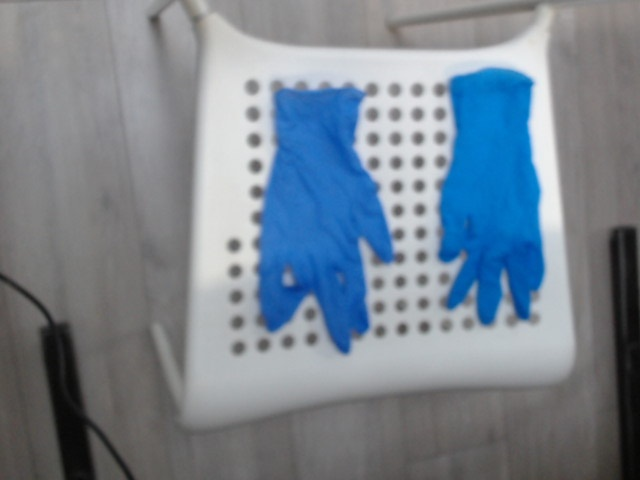medical_glove: (260, 86, 394, 354), (441, 68, 545, 324)
